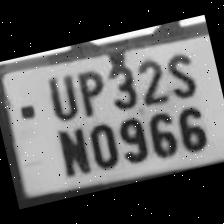0: (80, 116, 120, 173)
2: (128, 49, 170, 108)
3: (97, 49, 141, 112)
6: (140, 105, 182, 162), (170, 100, 212, 156)
9: (112, 111, 150, 166)
N: (48, 120, 93, 178)
P: (68, 60, 111, 119)
S: (158, 45, 201, 103)
U: (38, 68, 82, 124)
